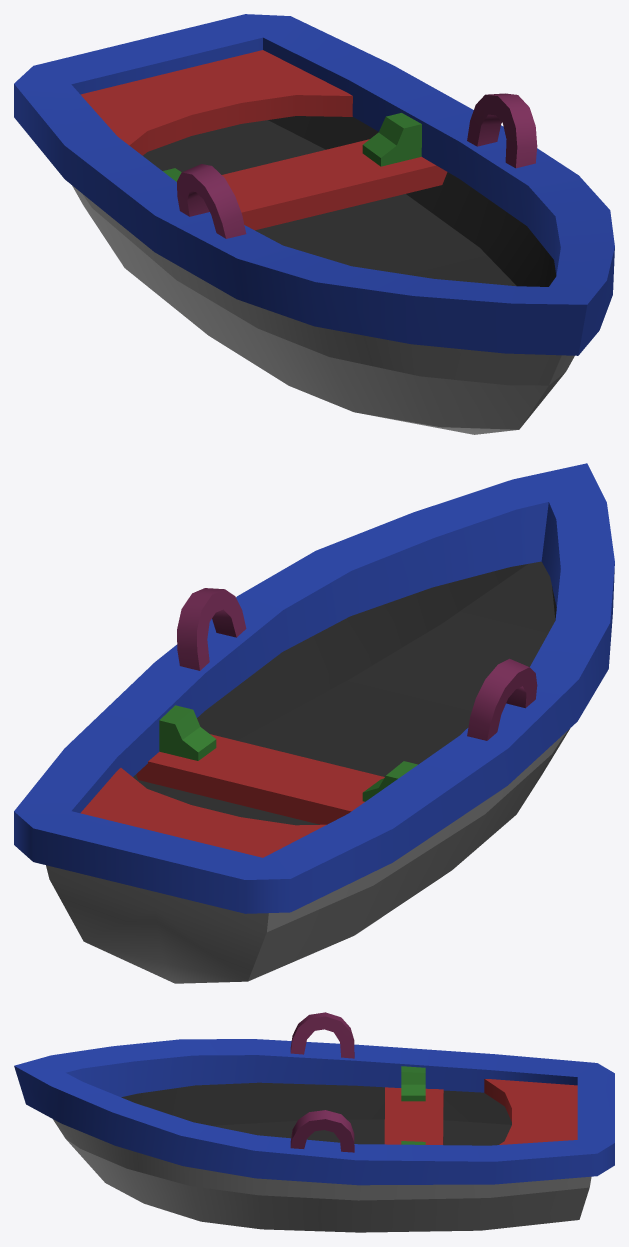
Rendered from Boat_mm.fbx.
3 views of the same model, one above another, from view 1: azimuth 30°, elevation 25°; view 2: azimuth 150°, elevation 25°; view 3: azimuth 270°, elevation 25° (orthographic). The views are drawn at different scales.
Parts seen in each view (by area): view 1: Boat; view 2: Boat; view 3: Boat.
Boxes of the visible parts, x1,y1,x2,y2 form: Boat: (14, 14, 614, 434); Boat: (14, 463, 614, 983); Boat: (14, 1012, 614, 1232).
Bounding box in the file's own units: 156 × 98.68 × 344.
